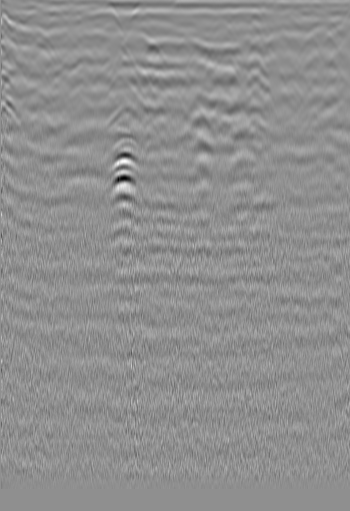가스: (103, 144, 147, 178)
상수: (38, 13, 58, 33)
오수: (294, 15, 314, 35)
우수: (167, 10, 187, 30)
